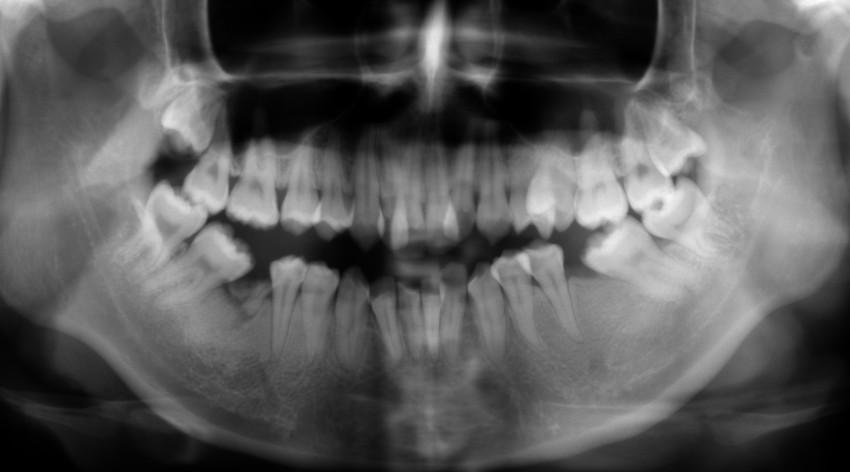Çürük Bölgesi: (364, 280, 380, 305)
